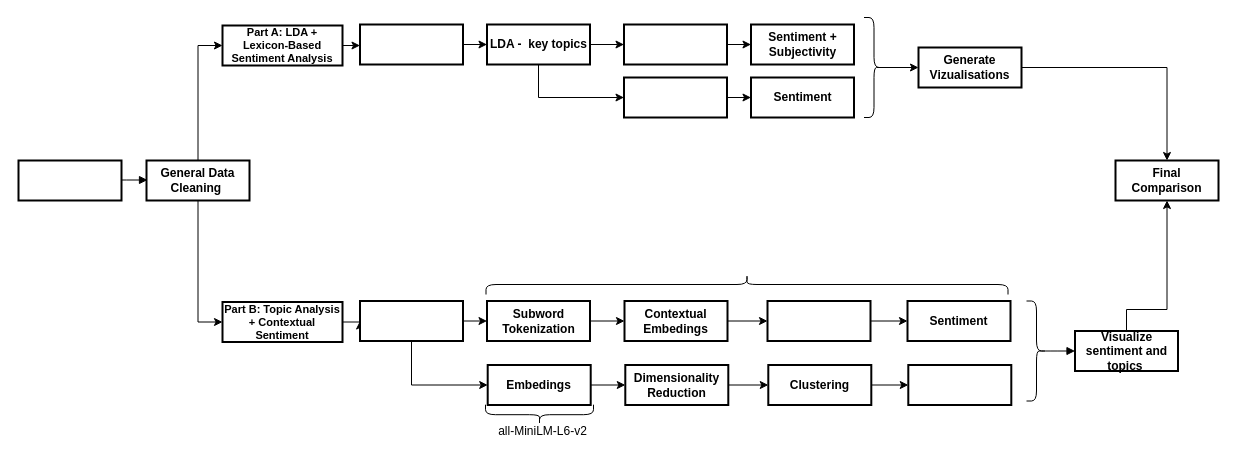
The diagram is 1236 pixels wide and 463 high, and some of its shapes have lost their labels. The shapes that lost their labels are listed below. From the top down, each one's centre as x and y in pixels, then its label:
point (411, 44): Pre-Processing A
point (675, 44): Apply TextBlob
point (675, 97): Apply VADER
point (69, 180): Raw Tweet Data
point (746, 284): Twitter-roBERTa-base
point (411, 321): Pre-Processing B
point (818, 321): RoBERTa
point (959, 385): BERTopic
